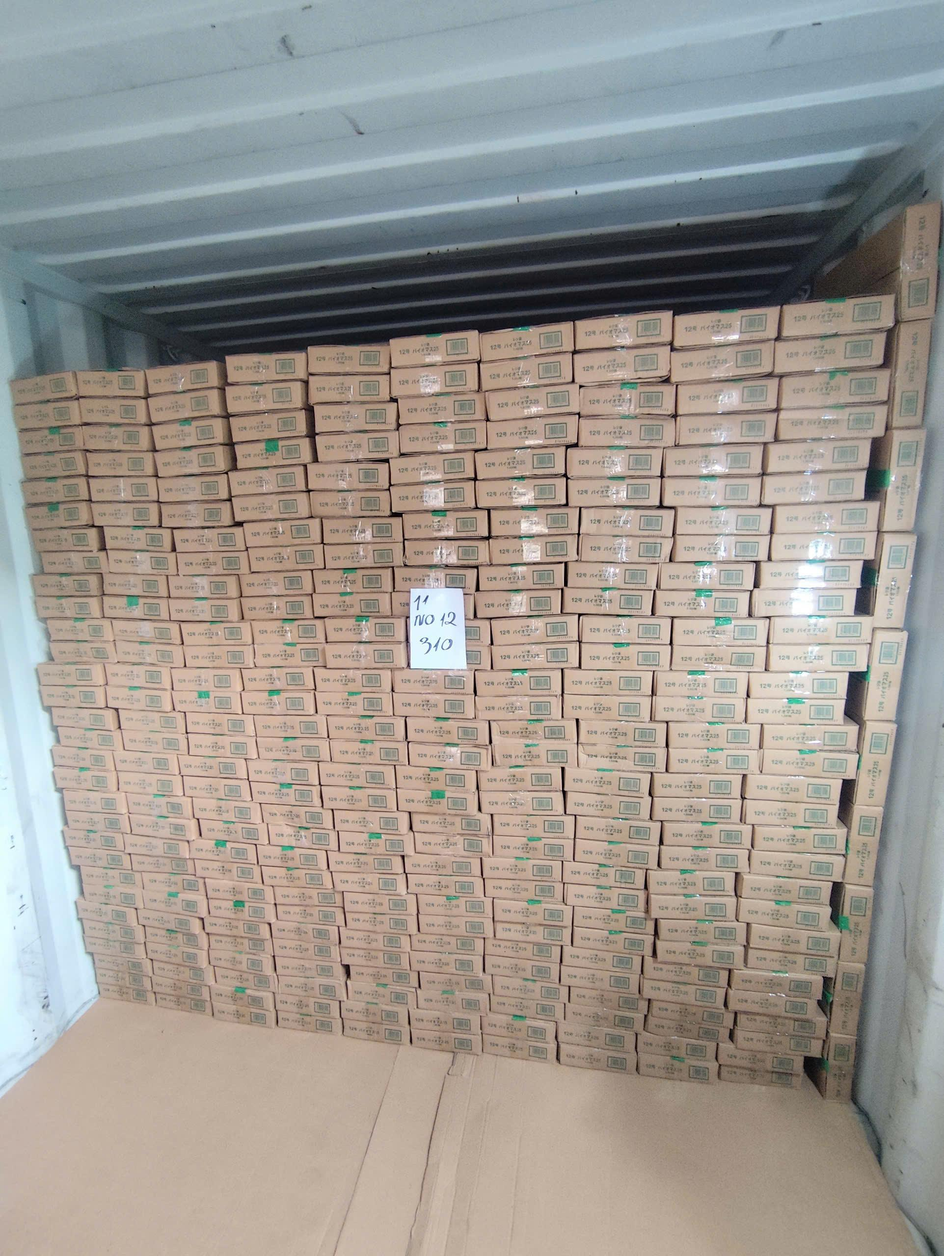carton: (890, 197, 944, 317), (778, 294, 900, 341), (773, 330, 893, 376), (776, 369, 893, 415), (670, 303, 781, 349), (889, 317, 934, 429), (867, 529, 918, 626), (879, 429, 927, 530), (762, 437, 879, 478), (760, 469, 874, 510), (774, 404, 890, 444), (479, 316, 575, 364), (861, 628, 909, 724), (851, 721, 901, 806), (573, 344, 671, 387), (672, 341, 772, 383), (676, 375, 774, 417), (769, 501, 882, 537), (767, 529, 878, 565), (742, 920, 840, 960), (757, 558, 872, 591), (763, 614, 873, 648), (731, 964, 829, 1002), (739, 875, 841, 911), (574, 312, 673, 349), (752, 587, 863, 620), (841, 805, 886, 886), (388, 329, 479, 369), (753, 724, 860, 758), (735, 896, 833, 933), (746, 697, 859, 729), (743, 798, 848, 832), (674, 411, 778, 445), (579, 383, 677, 419), (742, 944, 837, 981), (480, 355, 572, 393), (747, 850, 845, 885), (747, 672, 861, 702), (576, 415, 676, 449), (663, 443, 766, 476), (663, 475, 765, 508), (754, 747, 856, 780), (747, 825, 846, 859), (483, 416, 581, 450), (743, 772, 847, 804), (566, 446, 663, 480), (814, 1031, 861, 1101), (565, 477, 664, 510), (655, 562, 756, 594), (390, 364, 481, 399), (825, 961, 868, 1035), (577, 505, 674, 537), (765, 644, 868, 674), (652, 669, 748, 701), (668, 642, 766, 673), (652, 939, 746, 971), (484, 386, 581, 417), (474, 447, 565, 480), (388, 452, 473, 487), (839, 884, 876, 964), (670, 507, 772, 536), (389, 480, 476, 514), (578, 614, 673, 645), (475, 477, 567, 509), (642, 957, 731, 990), (677, 532, 766, 565), (310, 403, 396, 437), (306, 460, 391, 494), (665, 720, 761, 750), (578, 533, 674, 563), (151, 442, 231, 478), (491, 613, 578, 646), (717, 1043, 804, 1076), (144, 390, 226, 425), (227, 410, 309, 445), (150, 417, 229, 453), (655, 590, 753, 619), (648, 998, 734, 1031), (306, 344, 392, 377), (566, 561, 660, 591), (564, 983, 649, 1016), (580, 642, 670, 673), (563, 790, 653, 821), (490, 737, 577, 769), (405, 715, 489, 748), (312, 431, 396, 464), (142, 362, 221, 397), (390, 395, 485, 424), (229, 437, 310, 471), (9, 370, 81, 408), (668, 618, 769, 645), (650, 893, 735, 925), (634, 1032, 719, 1064), (223, 382, 305, 415), (555, 1022, 637, 1055), (563, 669, 653, 699), (728, 990, 818, 1020), (640, 978, 727, 1009), (479, 563, 566, 594), (309, 489, 393, 521), (735, 1028, 824, 1058), (479, 1033, 557, 1067), (647, 869, 735, 899), (393, 786, 481, 816), (227, 466, 307, 499), (399, 510, 490, 539), (562, 769, 653, 798), (394, 422, 488, 450), (11, 398, 84, 434), (226, 351, 305, 384), (154, 474, 233, 507), (575, 839, 659, 870), (653, 696, 749, 723), (238, 542, 327, 571), (665, 748, 760, 775), (652, 772, 740, 801), (657, 919, 742, 949), (307, 373, 389, 404), (660, 822, 754, 849), (562, 587, 656, 614), (480, 1014, 559, 1046), (737, 1012, 830, 1039), (230, 493, 310, 524), (402, 538, 487, 567), (475, 591, 560, 620), (661, 847, 749, 875), (477, 693, 564, 721), (75, 396, 151, 428), (20, 499, 93, 532), (475, 670, 561, 698), (321, 616, 407, 644), (479, 789, 562, 818), (393, 766, 476, 795), (573, 928, 656, 957), (73, 369, 148, 401), (320, 516, 400, 546), (490, 993, 565, 1025), (393, 690, 478, 718), (14, 424, 84, 458), (486, 508, 581, 533), (84, 448, 158, 480), (317, 542, 404, 569), (389, 591, 476, 618), (561, 966, 642, 995), (633, 1057, 723, 1083), (558, 1042, 631, 1074), (488, 536, 581, 561), (392, 669, 475, 697), (565, 883, 648, 911), (322, 643, 408, 670), (564, 1004, 644, 1033), (19, 472, 89, 505), (488, 975, 565, 1005), (646, 1016, 731, 1043), (576, 817, 661, 844), (78, 423, 152, 454), (312, 567, 391, 596), (484, 954, 560, 984), (650, 798, 745, 822), (560, 946, 644, 973), (562, 861, 646, 888), (408, 1028, 483, 1058), (562, 695, 652, 720), (578, 720, 668, 745), (17, 449, 85, 482), (406, 743, 489, 770), (241, 519, 321, 547), (326, 714, 406, 742), (100, 525, 172, 556), (157, 499, 231, 529), (26, 525, 100, 555), (409, 831, 491, 858), (86, 475, 159, 505), (490, 899, 571, 926), (494, 836, 575, 863), (394, 565, 478, 591), (406, 1008, 481, 1037), (32, 547, 107, 576), (487, 879, 567, 906), (481, 767, 561, 794), (318, 763, 398, 790), (577, 745, 667, 769), (484, 938, 561, 966), (330, 738, 404, 767), (487, 719, 576, 743), (572, 908, 657, 933), (110, 709, 188, 736), (106, 617, 181, 645), (103, 664, 173, 694), (249, 640, 324, 668), (406, 620, 490, 645), (34, 661, 106, 690), (29, 572, 101, 601), (102, 548, 171, 578), (491, 814, 577, 838), (166, 573, 237, 602), (344, 979, 415, 1008), (199, 818, 270, 847), (320, 786, 399, 812), (238, 570, 314, 597), (259, 804, 327, 834), (720, 1066, 805, 1090), (336, 828, 406, 857), (328, 810, 406, 836), (404, 873, 485, 898), (492, 921, 573, 946), (265, 822, 337, 850), (89, 500, 161, 528), (409, 812, 493, 836), (166, 597, 243, 623), (312, 670, 389, 696), (134, 907, 205, 935), (31, 593, 102, 621), (173, 550, 243, 578), (35, 683, 105, 711), (193, 797, 263, 825), (491, 645, 580, 667), (258, 737, 333, 763), (114, 642, 188, 668), (247, 759, 321, 785), (326, 851, 406, 875), (170, 526, 241, 553), (249, 619, 320, 646), (178, 754, 249, 781), (129, 815, 202, 841), (180, 775, 253, 801), (480, 859, 562, 882), (209, 985, 276, 1013), (212, 967, 279, 995), (104, 685, 171, 713), (416, 989, 491, 1014), (255, 715, 327, 741), (239, 667, 317, 691), (313, 594, 391, 618), (330, 870, 408, 894), (188, 838, 257, 865), (184, 734, 258, 759), (336, 945, 410, 970), (417, 894, 494, 918), (273, 955, 344, 981), (45, 618, 116, 644), (339, 1001, 410, 1027), (170, 668, 238, 695), (101, 595, 169, 622), (101, 572, 169, 599), (240, 691, 313, 716), (340, 1018, 410, 1044), (251, 781, 323, 806), (277, 976, 348, 1001), (185, 712, 256, 737), (340, 893, 417, 916), (419, 915, 496, 938), (121, 729, 189, 755), (339, 928, 412, 952), (179, 622, 249, 647), (194, 860, 264, 885), (275, 994, 342, 1020), (143, 942, 210, 968), (52, 766, 119, 792), (143, 891, 210, 917), (238, 594, 313, 617), (185, 644, 254, 669), (409, 951, 484, 974), (58, 727, 124, 753), (205, 880, 276, 904), (170, 691, 244, 714), (212, 1002, 275, 1029), (276, 1011, 344, 1036), (408, 647, 491, 667), (315, 693, 394, 714), (405, 855, 484, 876), (349, 965, 421, 988), (125, 793, 194, 817), (116, 771, 185, 795), (76, 899, 139, 925), (258, 846, 329, 869), (123, 835, 191, 859), (261, 867, 335, 889), (48, 640, 118, 663), (271, 923, 341, 946), (78, 866, 145, 890), (80, 919, 146, 943), (51, 747, 117, 771), (62, 789, 128, 813), (67, 847, 133, 871), (345, 913, 420, 934), (209, 950, 277, 973), (420, 972, 494, 993), (65, 811, 132, 834), (114, 751, 181, 774), (142, 873, 206, 897), (152, 960, 215, 984), (82, 885, 145, 909), (410, 934, 485, 954), (143, 926, 211, 948), (204, 918, 272, 940), (51, 708, 116, 731), (274, 887, 345, 908), (152, 976, 211, 1001), (210, 935, 274, 958), (208, 900, 278, 921), (61, 829, 126, 851), (83, 937, 147, 959), (273, 940, 342, 960), (277, 906, 346, 926), (92, 954, 153, 976), (131, 855, 196, 875), (98, 984, 156, 1006), (95, 969, 153, 991), (156, 994, 213, 1016)
